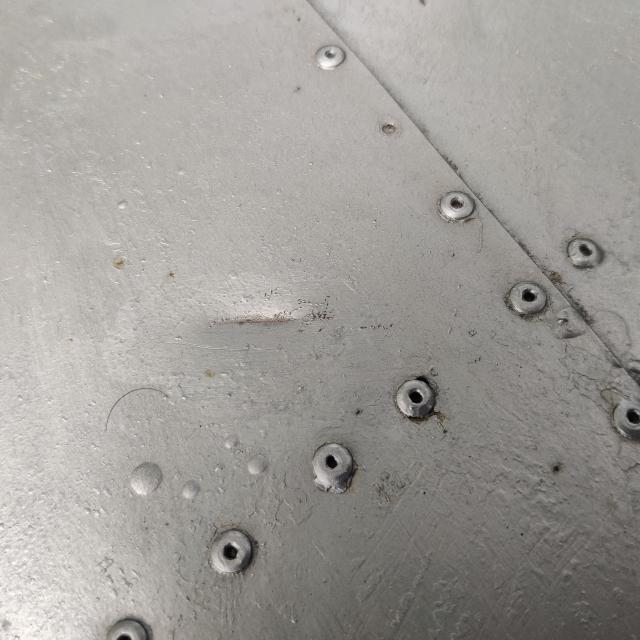dent: (256, 177, 401, 346)
